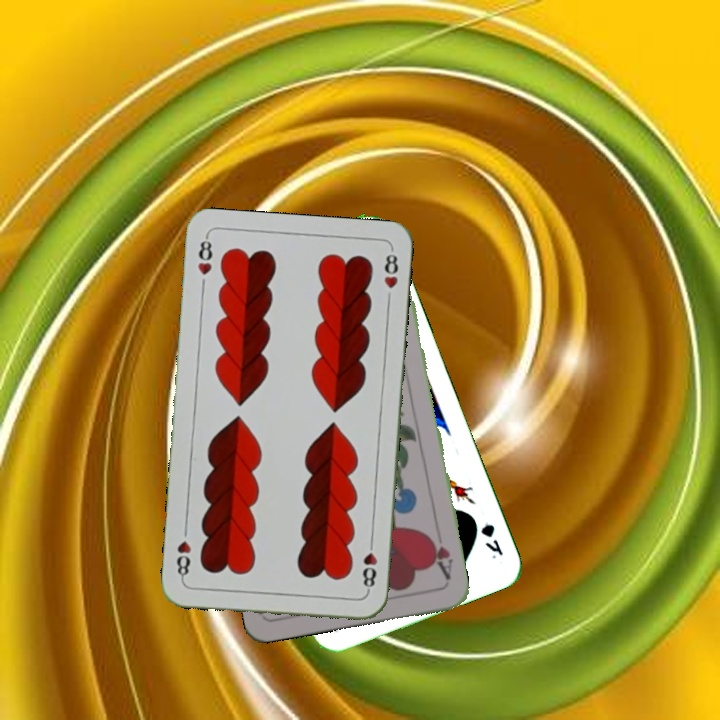GK: (476, 520, 506, 562)
H8: (358, 535, 380, 594), (194, 233, 215, 292)
HA: (424, 530, 455, 583)
